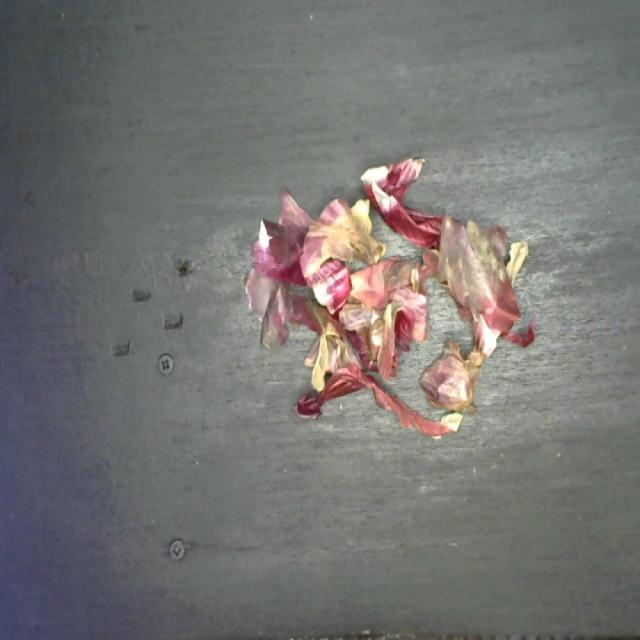biodegradable: (241, 148, 534, 443)
